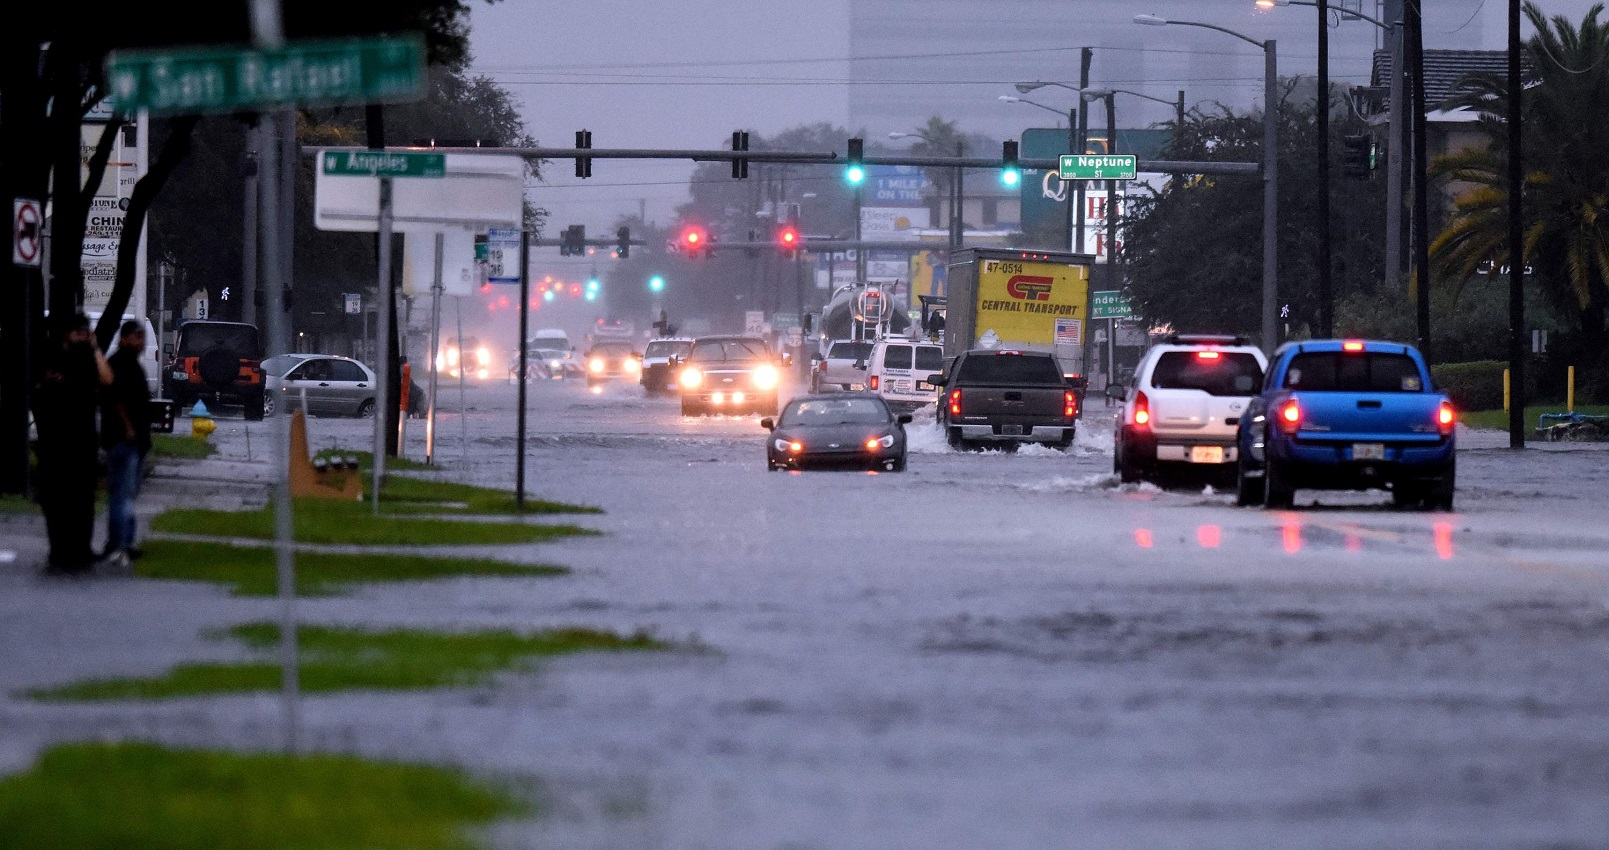traffic_light: (844, 136, 867, 190), (1000, 138, 1021, 188)
